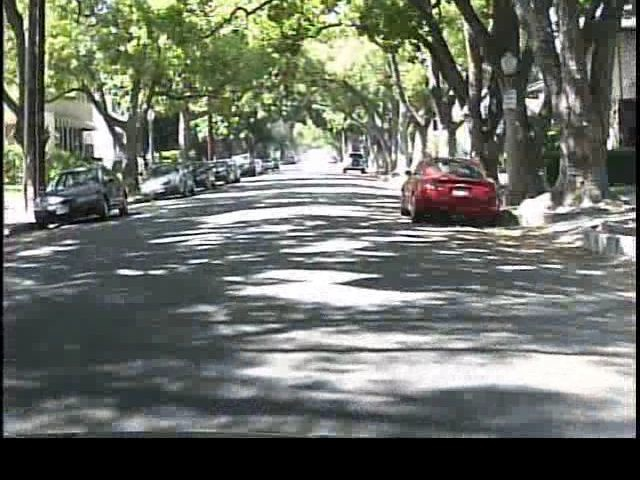person: (133, 147, 154, 190)
